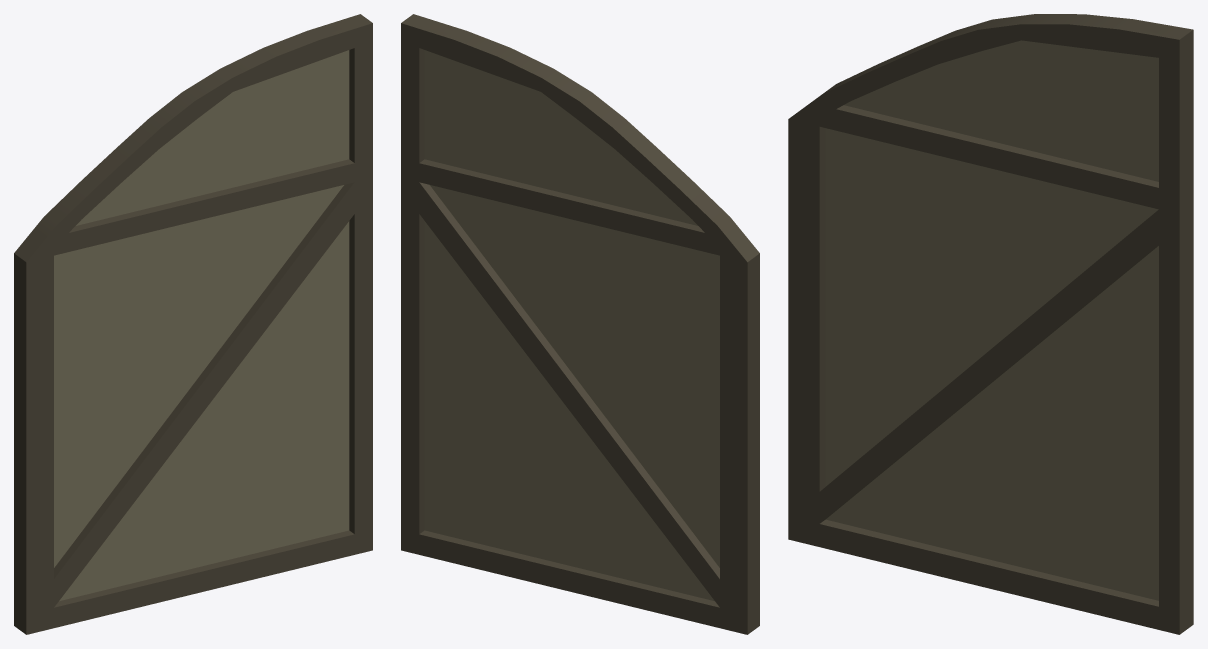
File: BigArchDoor.fbx
3 renders of one model, left to right at view 1: azimuth 30°, elevation 25°; view 2: azimuth 150°, elevation 25°; view 3: azimuth 330°, elevation 25°, orthographic. The views are drawn at different scales.
Visible parts, largest first — view 1: BigArchDoor; view 2: BigArchDoor; view 3: BigArchDoor.
Boxes of the visible parts, x1,y1,x2,y2 form: BigArchDoor: (14, 14, 372, 634); BigArchDoor: (401, 14, 759, 634); BigArchDoor: (788, 14, 1193, 634).
Size of the model in its own units: 186 by 11.57 by 271.
